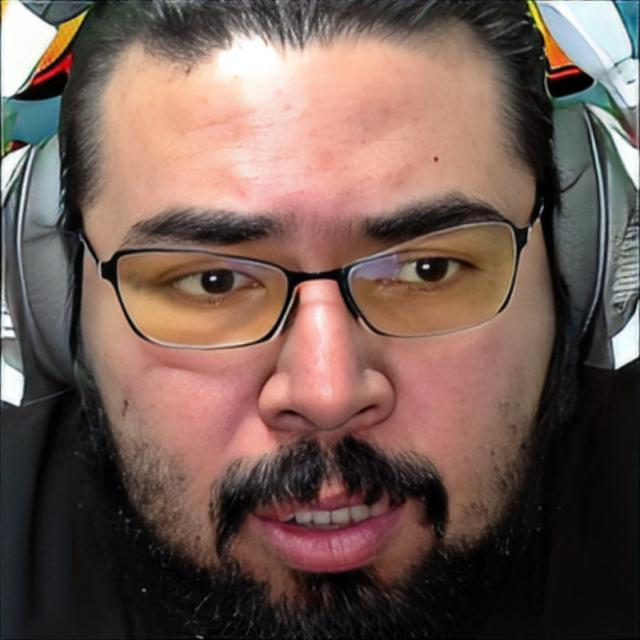anger: (88, 38, 546, 606)
